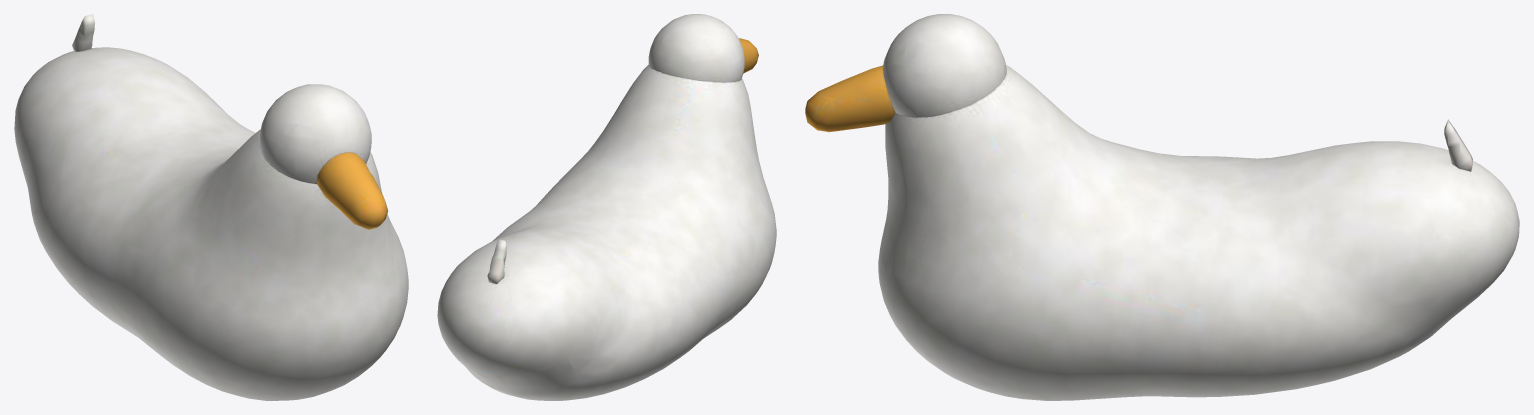
The model's file is animal_call_duck.glb.
3 views of the same model, side by side, from view 1: azimuth 30°, elevation 25°; view 2: azimuth 150°, elevation 25°; view 3: azimuth 270°, elevation 25° (orthographic). The views are drawn at different scales.
Visible parts, largest first — view 1: animal_call_duck, head; view 2: animal_call_duck, head; view 3: animal_call_duck, head.
Boxes of the visible parts, <box> form: animal_call_duck: <box>14,14,408,400</box>; head: <box>260,84,388,229</box>; animal_call_duck: <box>437,65,776,400</box>; head: <box>648,14,758,82</box>; animal_call_duck: <box>878,65,1519,400</box>; head: <box>805,14,1006,132</box>.
Size of the model in its own units: 0.1041 by 0.1345 by 0.2388.
Materials: 1 (1 with a texture image).
